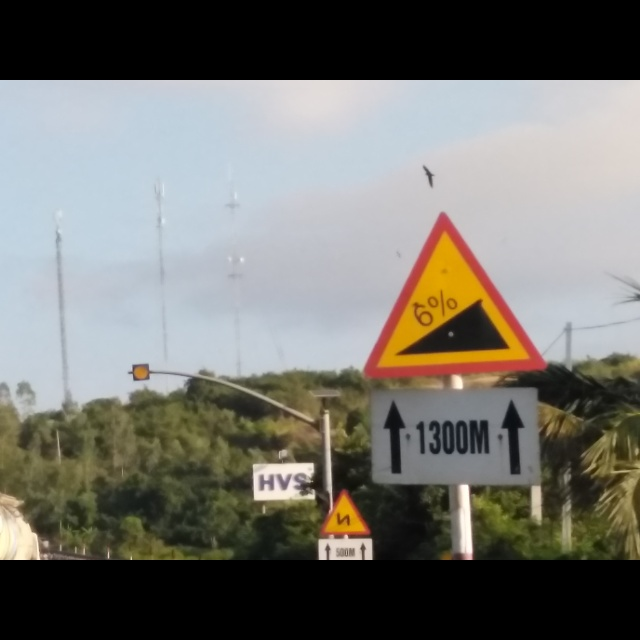Dốc lên nguy hiểm: (361, 209, 549, 379)
Ngoặt nguy hiểm liên tiếp bên phải: (318, 487, 373, 536)
